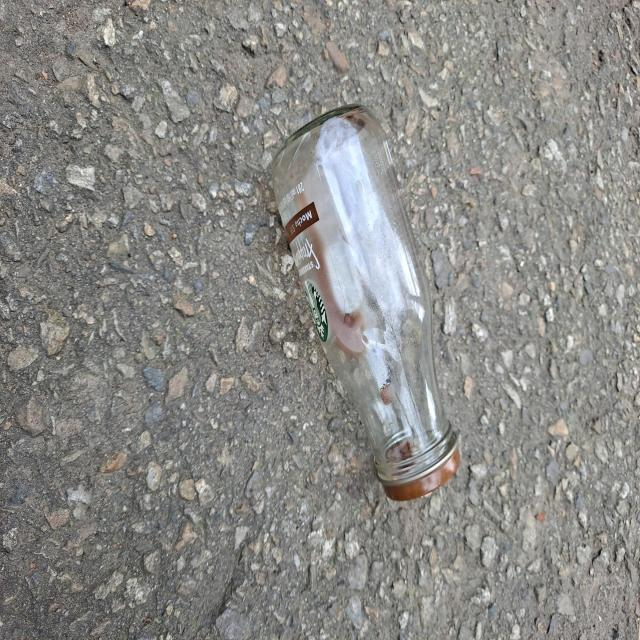glass: (273, 104, 461, 500)
